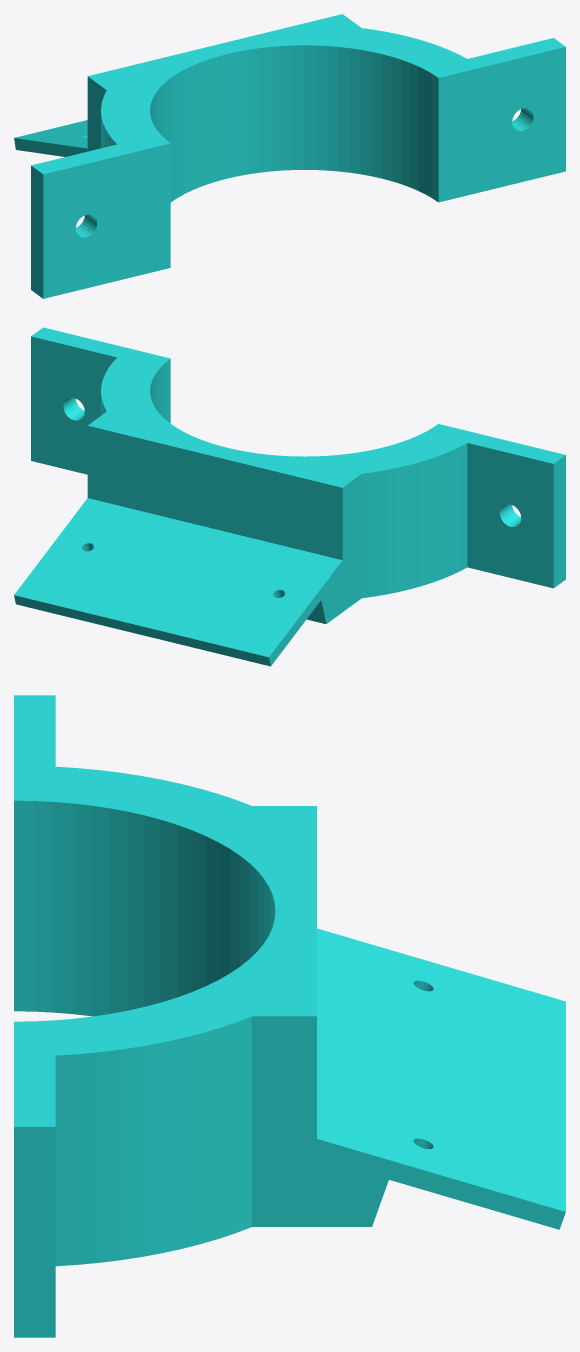
File: UR3_camera_mount_upper_v3.dae
3 views of the same model, one above another, from view 1: azimuth 30°, elevation 25°; view 2: azimuth 150°, elevation 25°; view 3: azimuth 270°, elevation 25° (orthographic). The views are drawn at different scales.
Visible parts, largest first — view 1: UR3 camera maunt upper v7; view 2: UR3 camera maunt upper v7; view 3: UR3 camera maunt upper v7.
Part boxes in pixels (x1,y1,x2,y2): UR3 camera maunt upper v7: (14, 14, 565, 298); UR3 camera maunt upper v7: (14, 327, 565, 666); UR3 camera maunt upper v7: (14, 695, 565, 1337).
Size of the model in its own units: 0.123 by 0.0665 by 0.0284.
